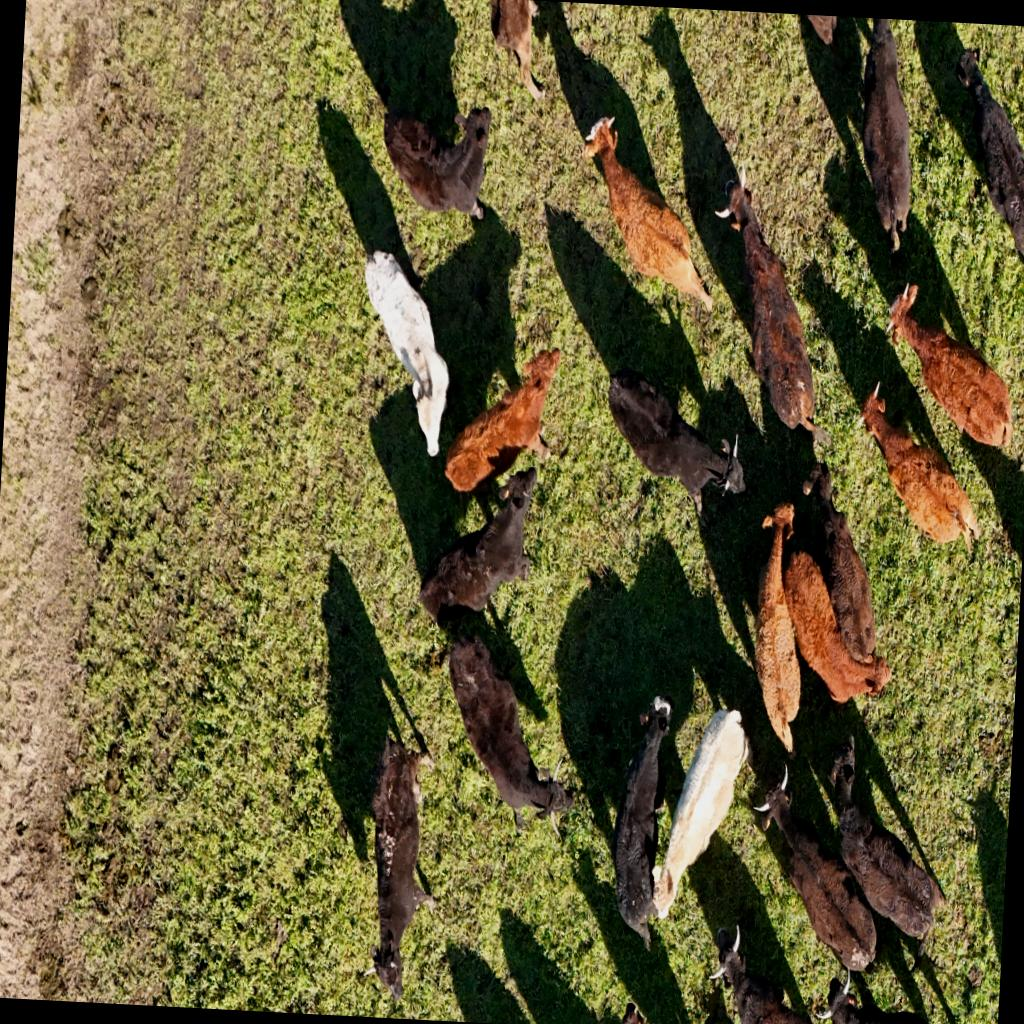cow: (715, 166, 839, 450), (633, 680, 761, 937), (820, 736, 962, 955), (746, 756, 886, 978), (438, 638, 584, 832), (576, 114, 712, 310), (878, 278, 1020, 455), (358, 727, 448, 1003), (852, 384, 991, 552), (411, 460, 540, 632), (356, 250, 458, 462), (774, 548, 900, 712), (796, 462, 890, 668), (443, 346, 567, 502), (606, 692, 678, 947), (944, 48, 1024, 272), (745, 494, 813, 756), (852, 18, 922, 262), (614, 373, 726, 515), (377, 100, 495, 223), (712, 922, 826, 1024), (815, 966, 966, 1024), (486, 0, 552, 106)
